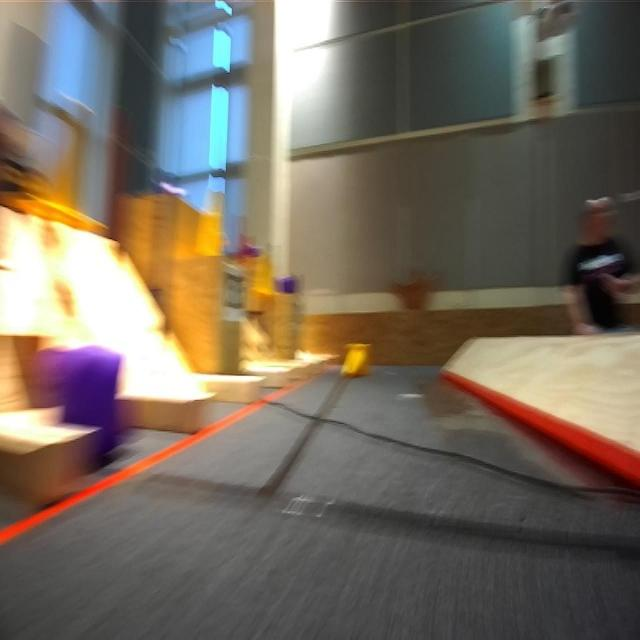frc_cone: (39, 108, 98, 230), (194, 183, 227, 256), (340, 342, 374, 379), (255, 245, 273, 296)
frc_cube: (55, 345, 117, 426), (279, 271, 299, 296), (238, 243, 262, 257)
